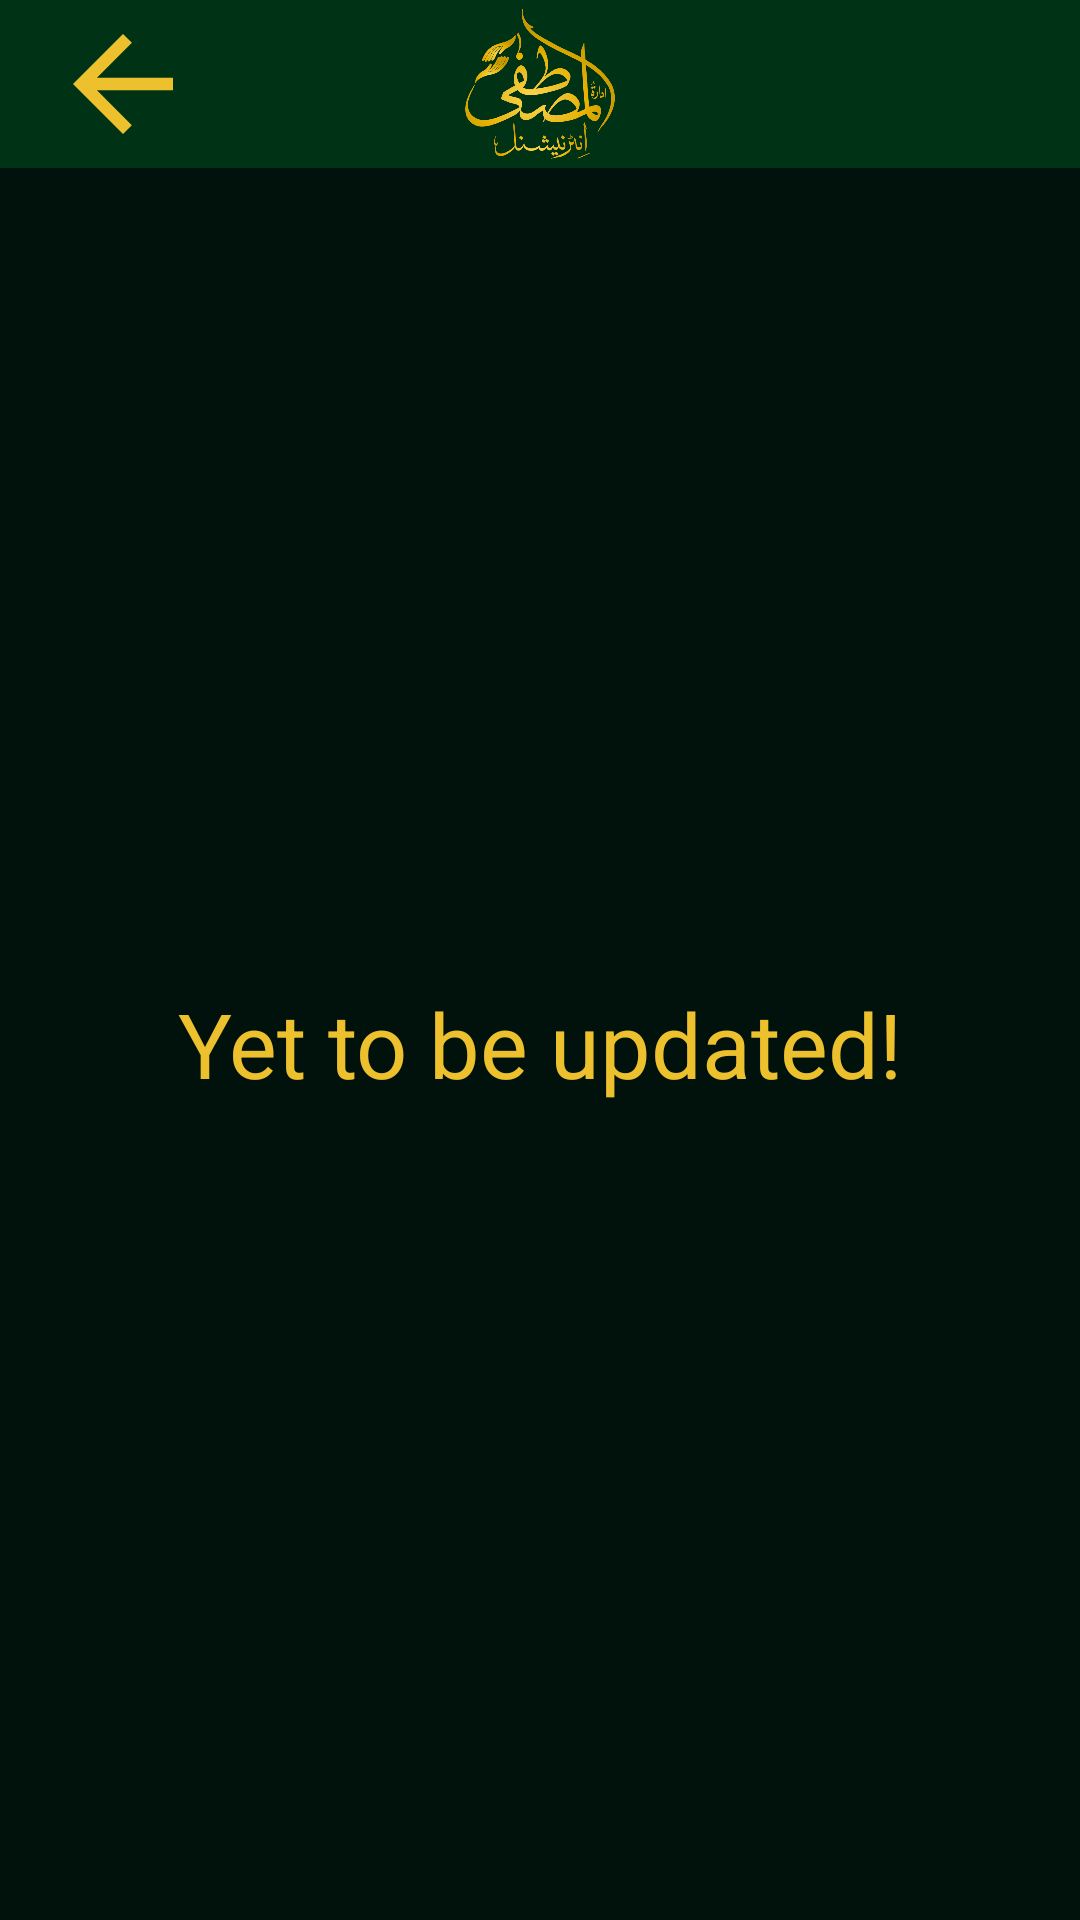

Screen size 1080 x 1920. Icon name, then its box in pixels as (left=x1, top=y1, right=x2, bottom=y2):
back: (left=73, top=34, right=173, bottom=134)
